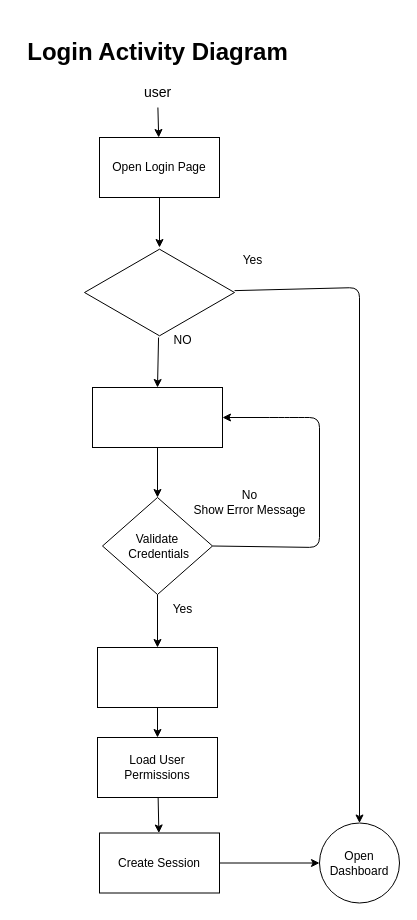
Some shapes in this 417 by 920 pixel diagram are drawn without their labels. Here are the shapes that lost their labels. From the top down, the centre of each, then its label:
At point (159, 292): "Check Active Session".
At point (157, 417): "Enter Credentials".
At point (157, 677): "Send credentials to Authentication System".
